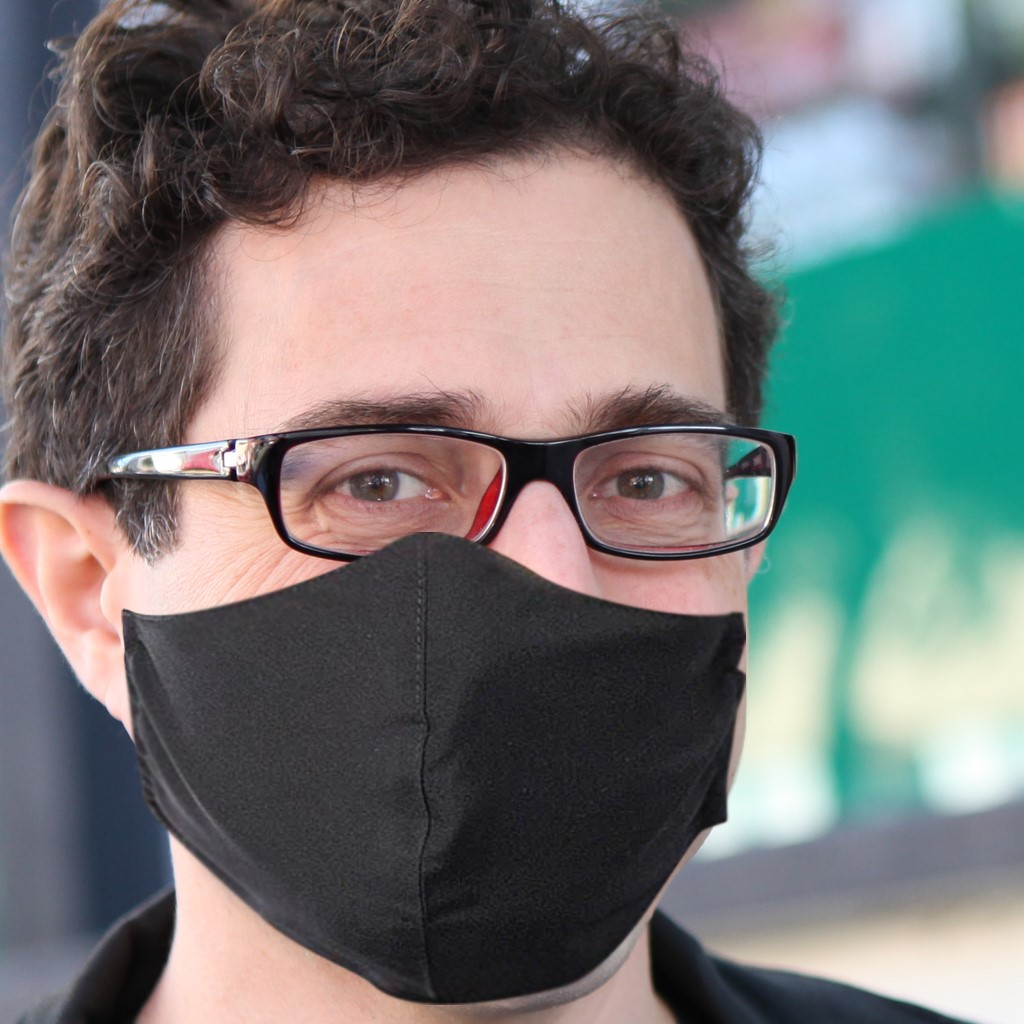con_mascara: (48, 11, 744, 982)
